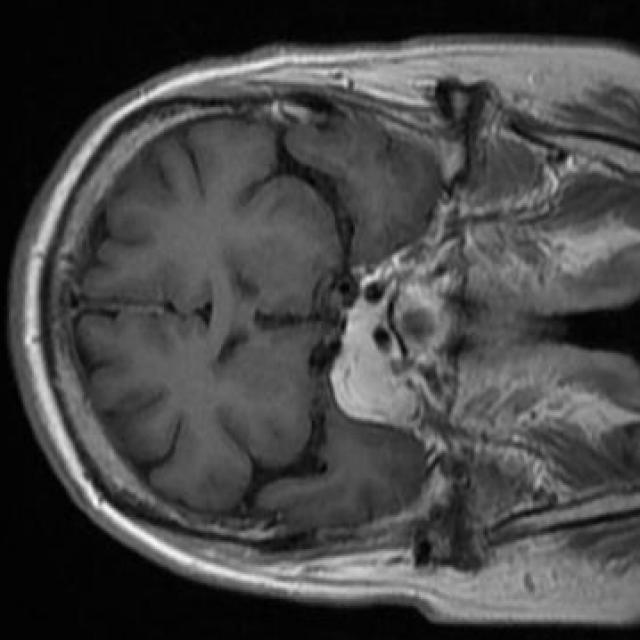meningioma: (330, 298, 426, 430)
